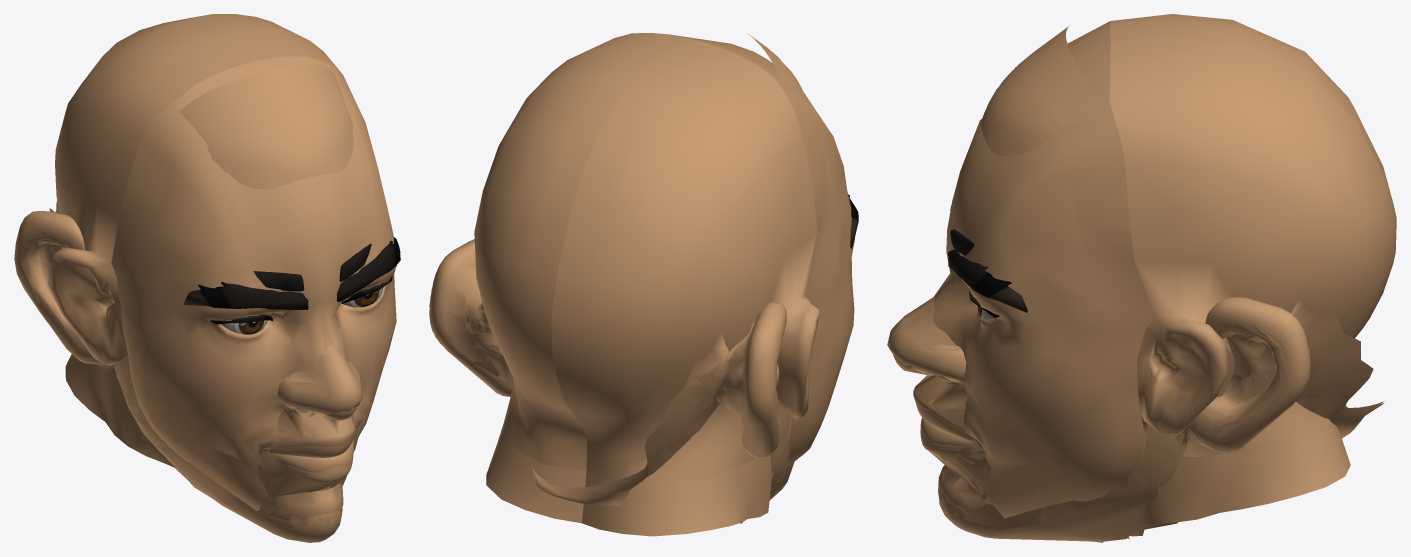
File: athlete-faces.glb
3 views of the same model, side by side, from view 1: azimuth 30°, elevation 25°; view 2: azimuth 150°, elevation 25°; view 3: azimuth 270°, elevation 25° (orthographic). The views are drawn at different scales.
Visible parts, largest first — view 1: SuperHero_Male (×6), GEO-snow-head (×8), Eyebrows, GEO-snow-eyebrows, Eyes; view 2: SuperHero_Male (×3), GEO-snow-head (×8); view 3: SuperHero_Male (×5), GEO-snow-head (×8), Eyebrows.
Part boxes in pixels (left/top/right/bottom): SuperHero_Male (×6): left=47, top=14, right=397, bottom=510; GEO-snow-head (×8): left=14, top=64, right=362, bottom=542; Eyebrows: left=183, top=237, right=400, bottom=324; GEO-snow-eyebrows: left=254, top=243, right=371, bottom=291; Eyes: left=221, top=287, right=383, bottom=334; SuperHero_Male (×3): left=474, top=33, right=854, bottom=536; GEO-snow-head (×8): left=429, top=35, right=802, bottom=526; SuperHero_Male (×5): left=893, top=14, right=1396, bottom=524; GEO-snow-head (×8): left=887, top=26, right=1383, bottom=542; Eyebrows: left=948, top=249, right=1027, bottom=317.
Size of the model in its own units: 0.1711 by 0.2352 by 0.2184.
6 materials, 3 textured.
